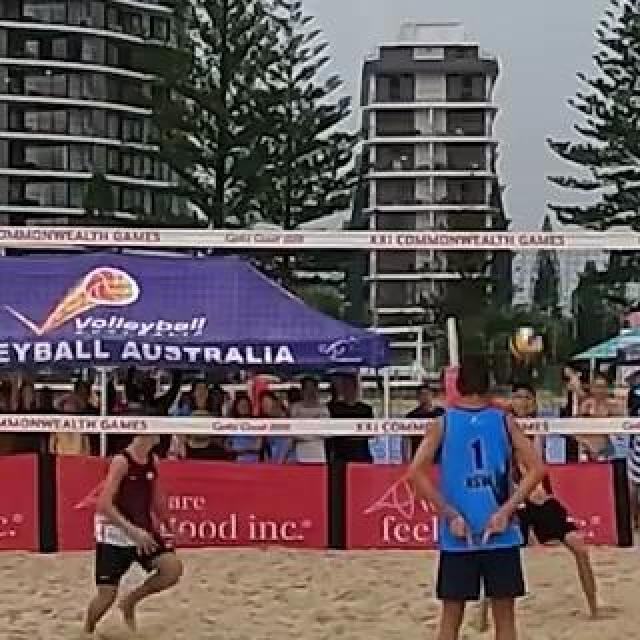volleyball: (510, 327, 540, 359)
